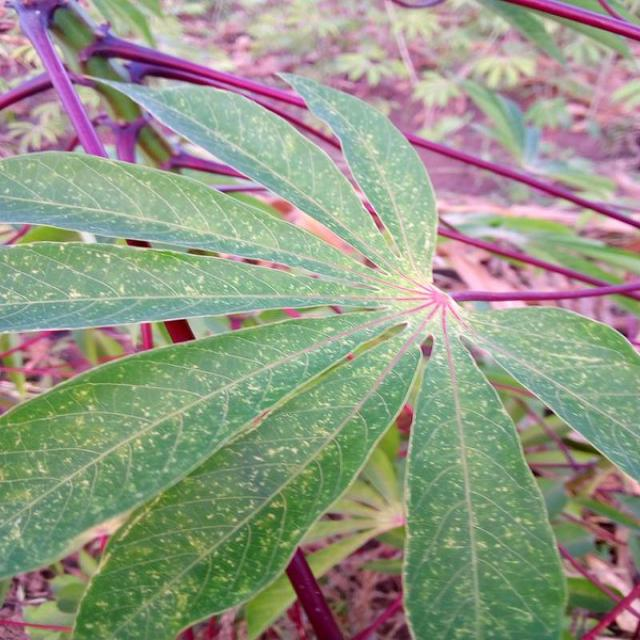cassava leaf: (0, 66, 638, 638), (401, 305, 568, 638)
